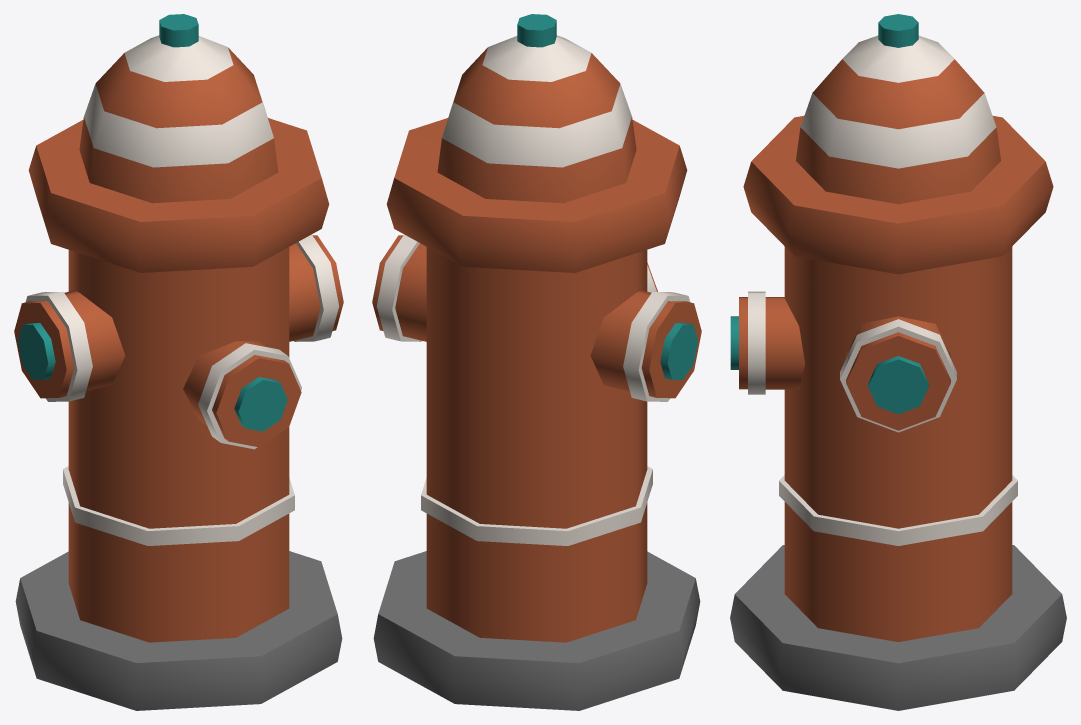
The model's file is Hydrant.fbx.
The picture shows the model from 3 angles, left to right: view 1: azimuth 30°, elevation 25°; view 2: azimuth 150°, elevation 25°; view 3: azimuth 270°, elevation 25°; orthographic projection.
Parts seen in each view (by area): view 1: Hydrant; view 2: Hydrant; view 3: Hydrant.
Boxes of the visible parts, <box> form: Hydrant: <box>14,14,343,710</box>; Hydrant: <box>372,14,701,710</box>; Hydrant: <box>730,14,1066,710</box>.
Size of the model in its own units: 3.6 by 7.29 by 3.6.
